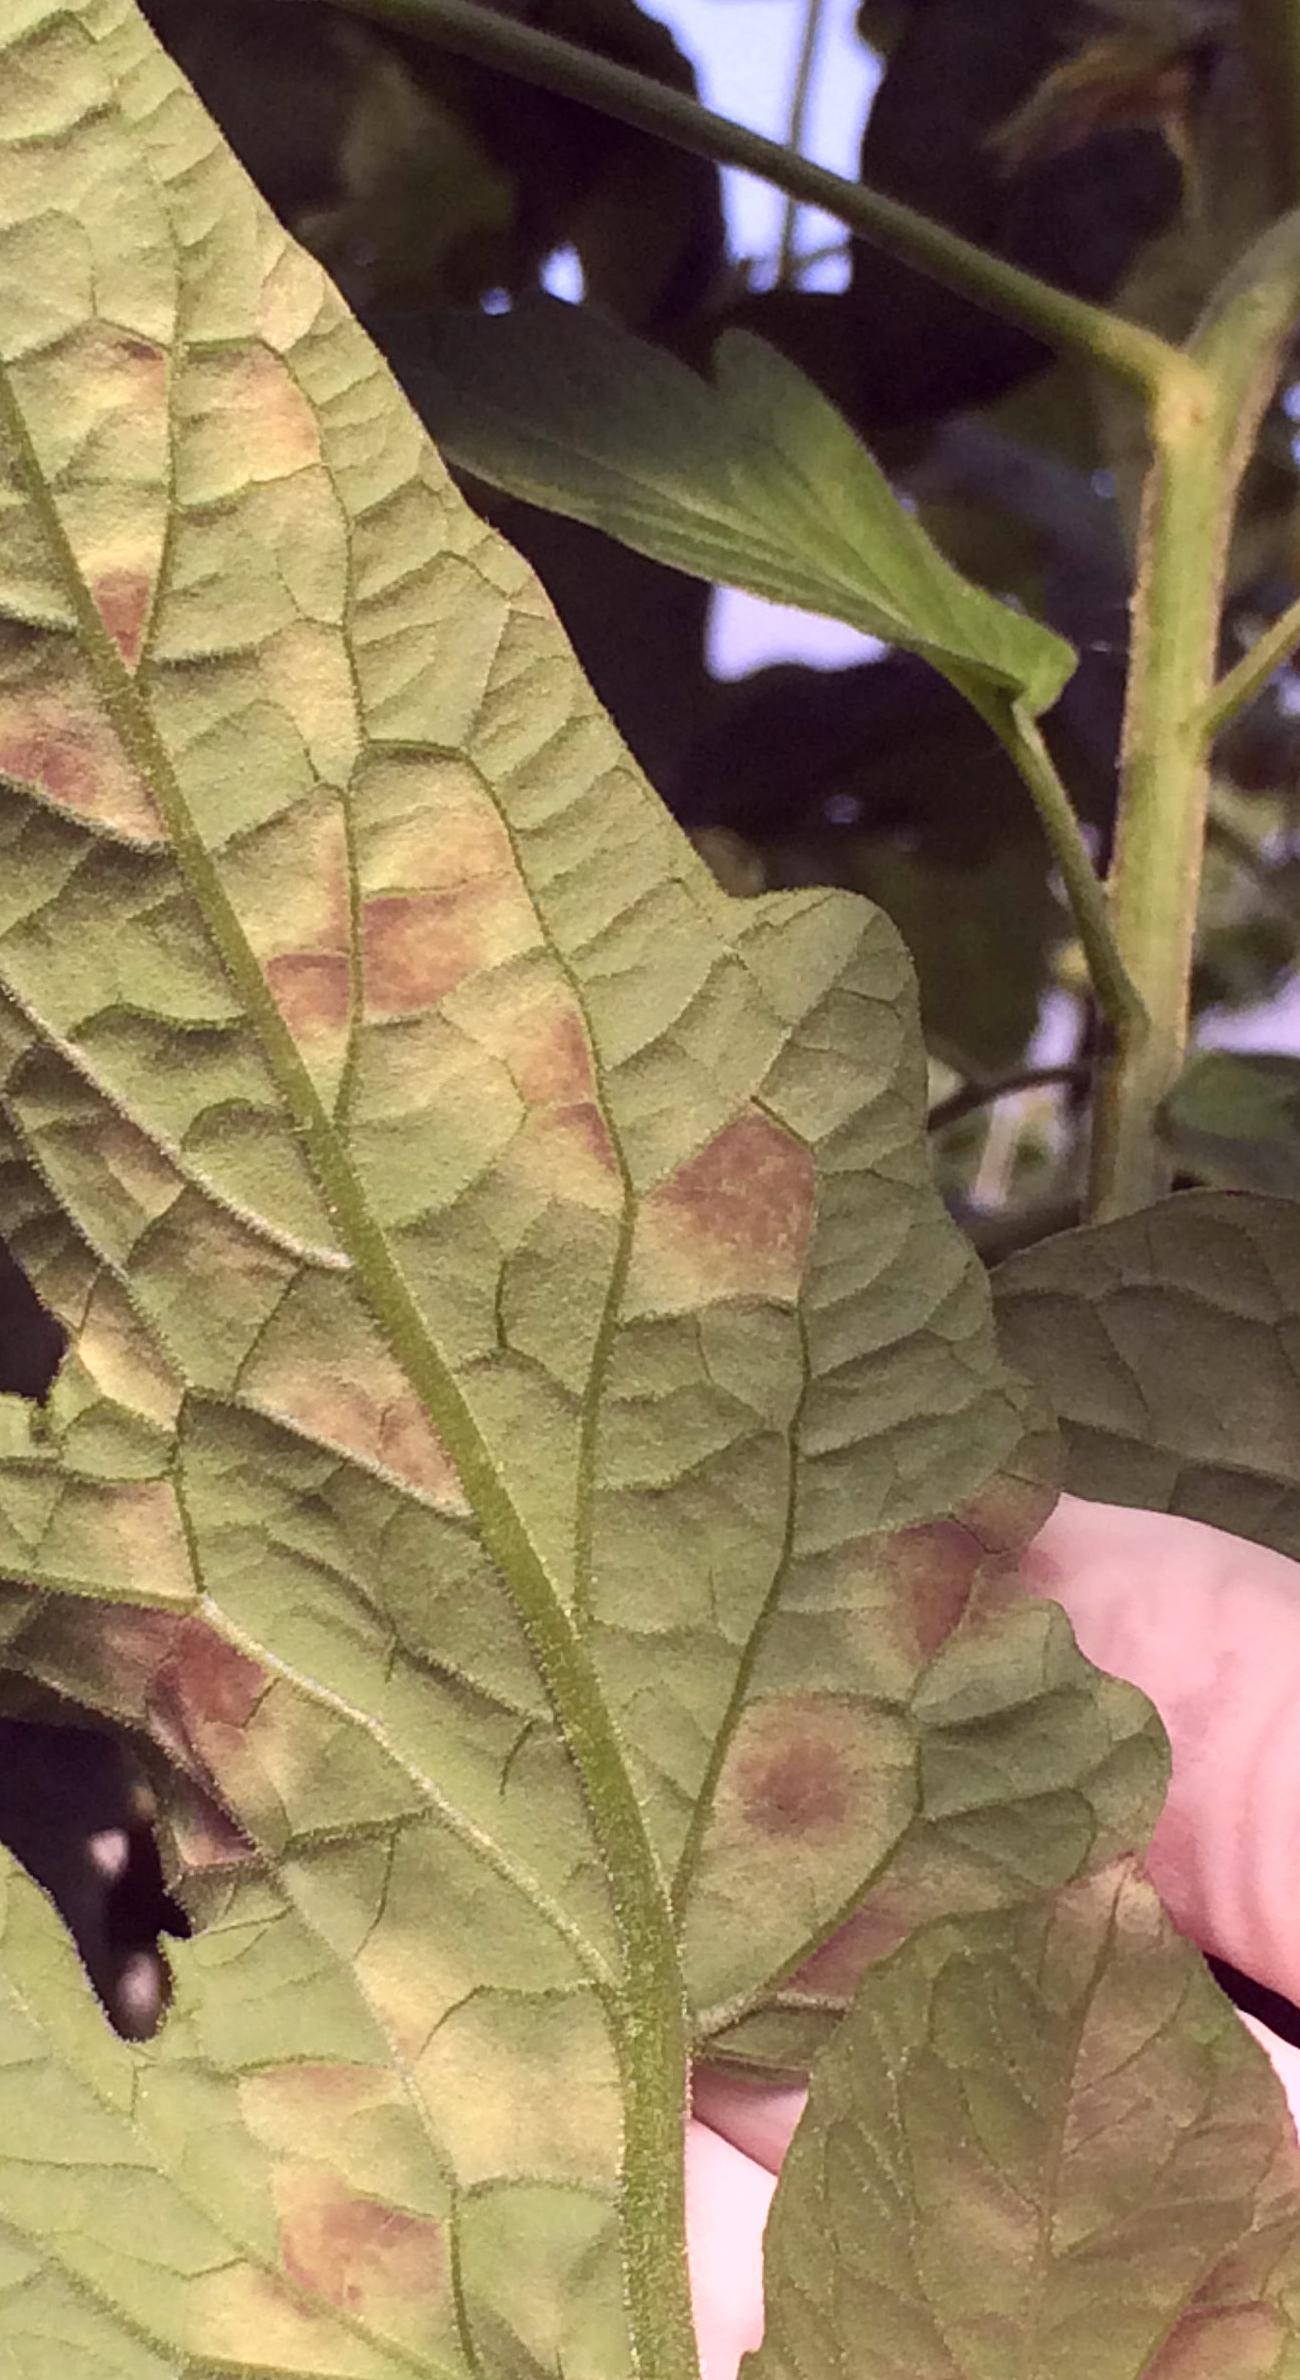Tomato mold leaf: (0, 0, 1218, 2380)
